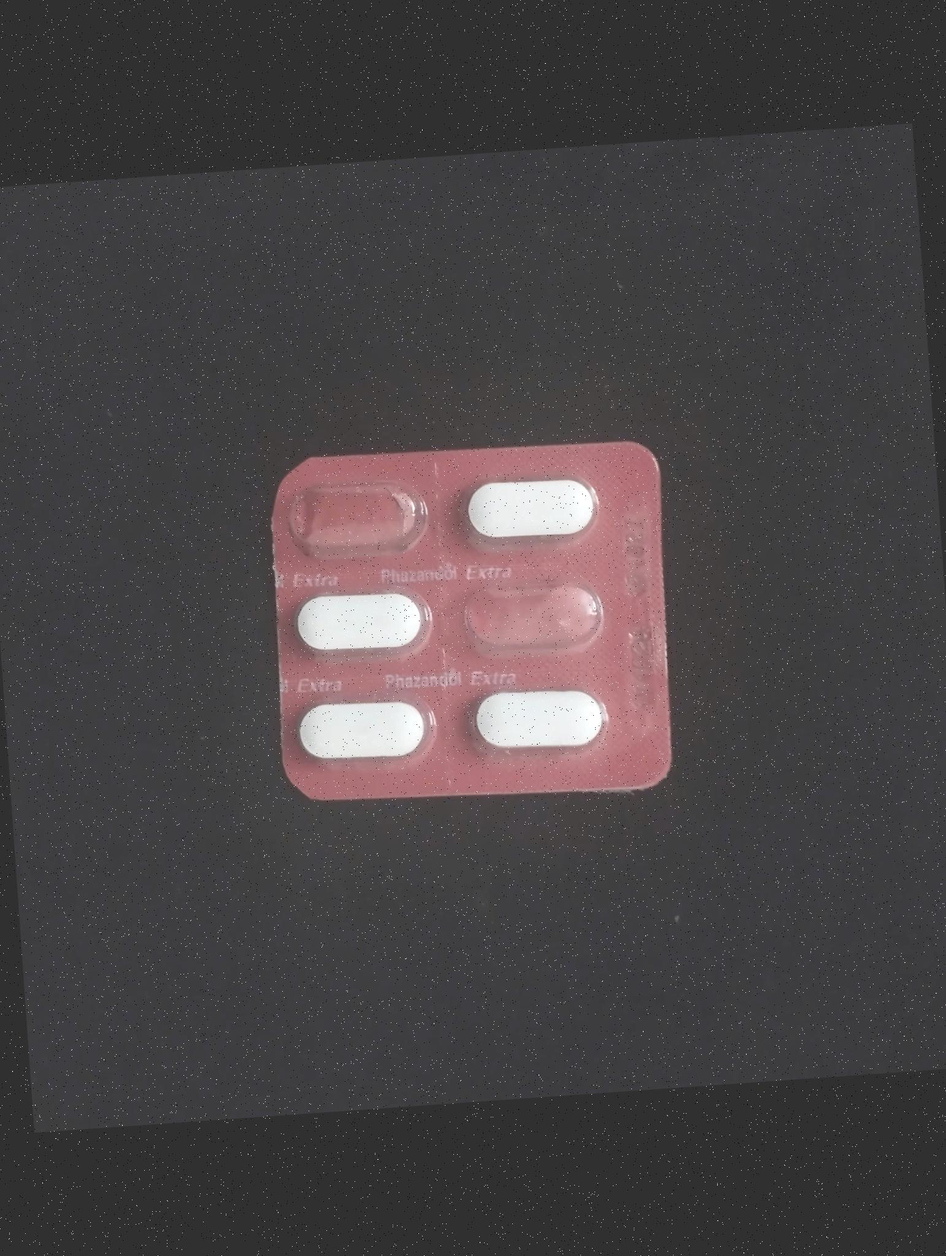Empty: (453, 575, 608, 670), (273, 478, 423, 565)
Full: (288, 693, 440, 781), (282, 578, 435, 665), (453, 468, 600, 555), (458, 684, 609, 759)
